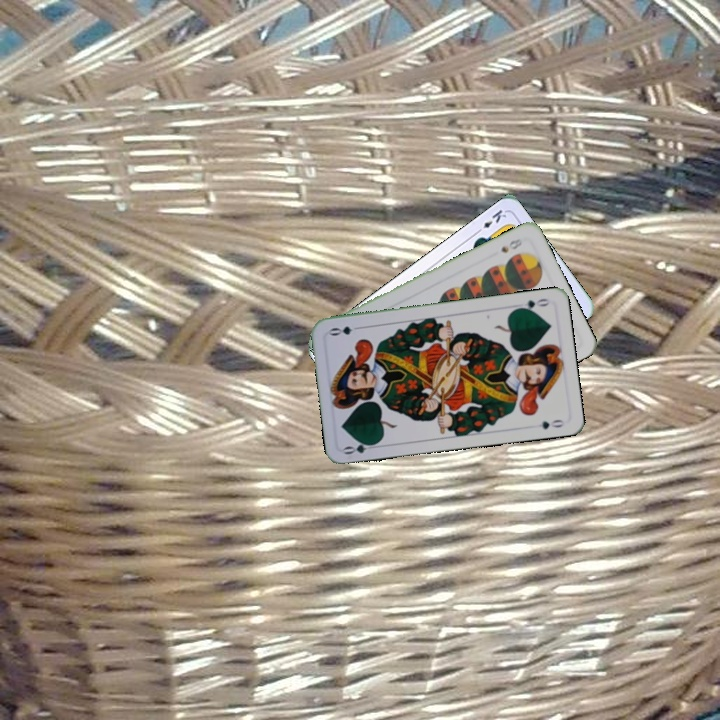EK: (472, 205, 509, 236)
GO: (340, 437, 381, 457), (512, 294, 552, 314)
S8: (497, 234, 525, 255)
